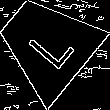L_NW: (17, 16, 75, 72)
